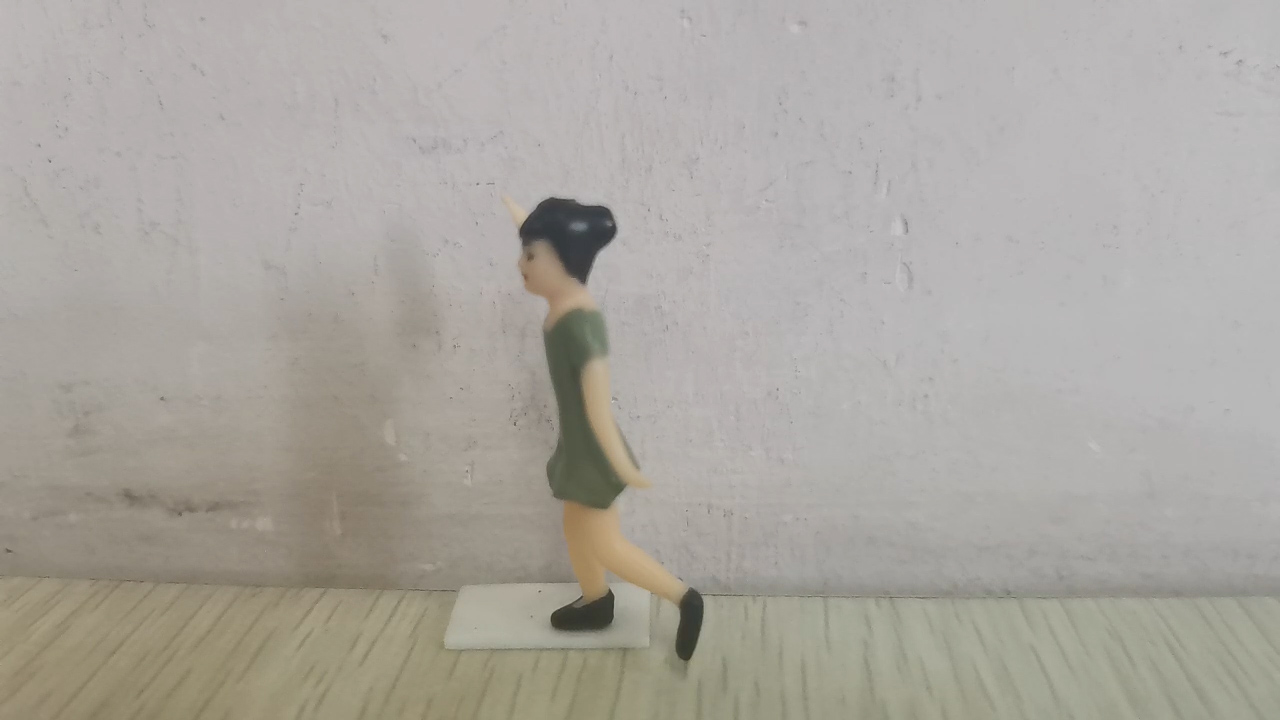person: (495, 184, 706, 662)
